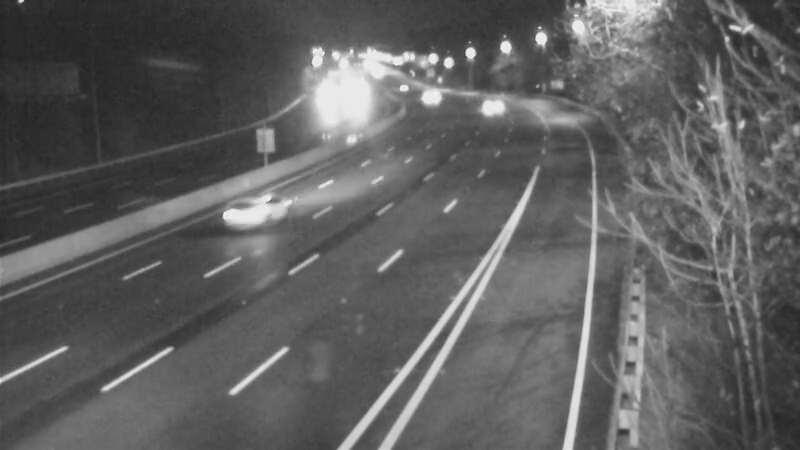vehicle: (204, 176, 284, 256), (377, 61, 427, 111), (402, 70, 452, 120), (464, 76, 514, 126)
